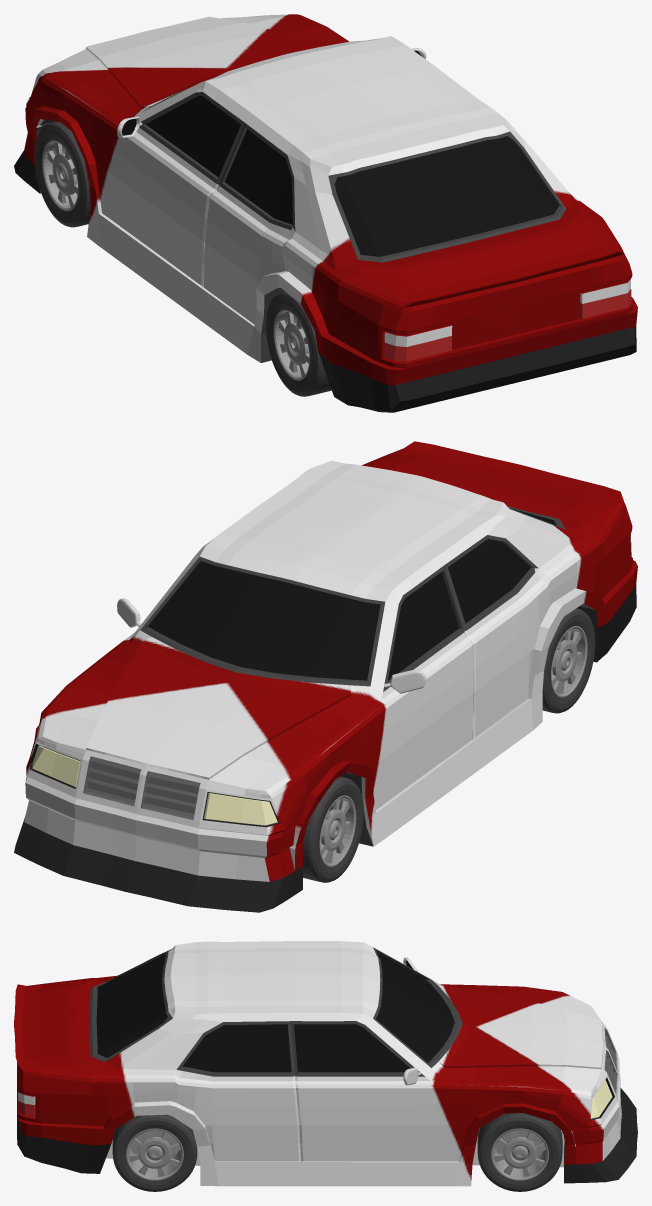
Rendered from Fernedenz.fbx.
The picture shows the model from 3 angles, top to bottom: view 1: azimuth 30°, elevation 25°; view 2: azimuth 150°, elevation 25°; view 3: azimuth 270°, elevation 25°; orthographic projection. The views are drawn at different scales.
Parts seen in each view (by area): view 1: Plane, Circle.007, Circle.010; view 2: Plane, Circle.007, Circle.010, Cube.003, Cube.004, Cube.020; view 3: Plane, Circle.008, Circle.021.
Boxes of the visible parts, x1,y1,x2,y2 form: Plane: (14,14,637,412); Circle.007: (34,121,90,227); Circle.010: (266,291,331,396); Plane: (14,441,637,912); Circle.007: (302,776,363,882); Circle.010: (542,608,595,713); Cube.003: (142,773,200,817); Cube.004: (85,757,140,804); Cube.020: (384,669,426,693); Plane: (14,941,637,1186); Circle.008: (477,1113,562,1191); Circle.021: (112,1114,197,1191).
Size of the model in its own units: 156 by 101 by 346.
3 materials, 2 textured.
